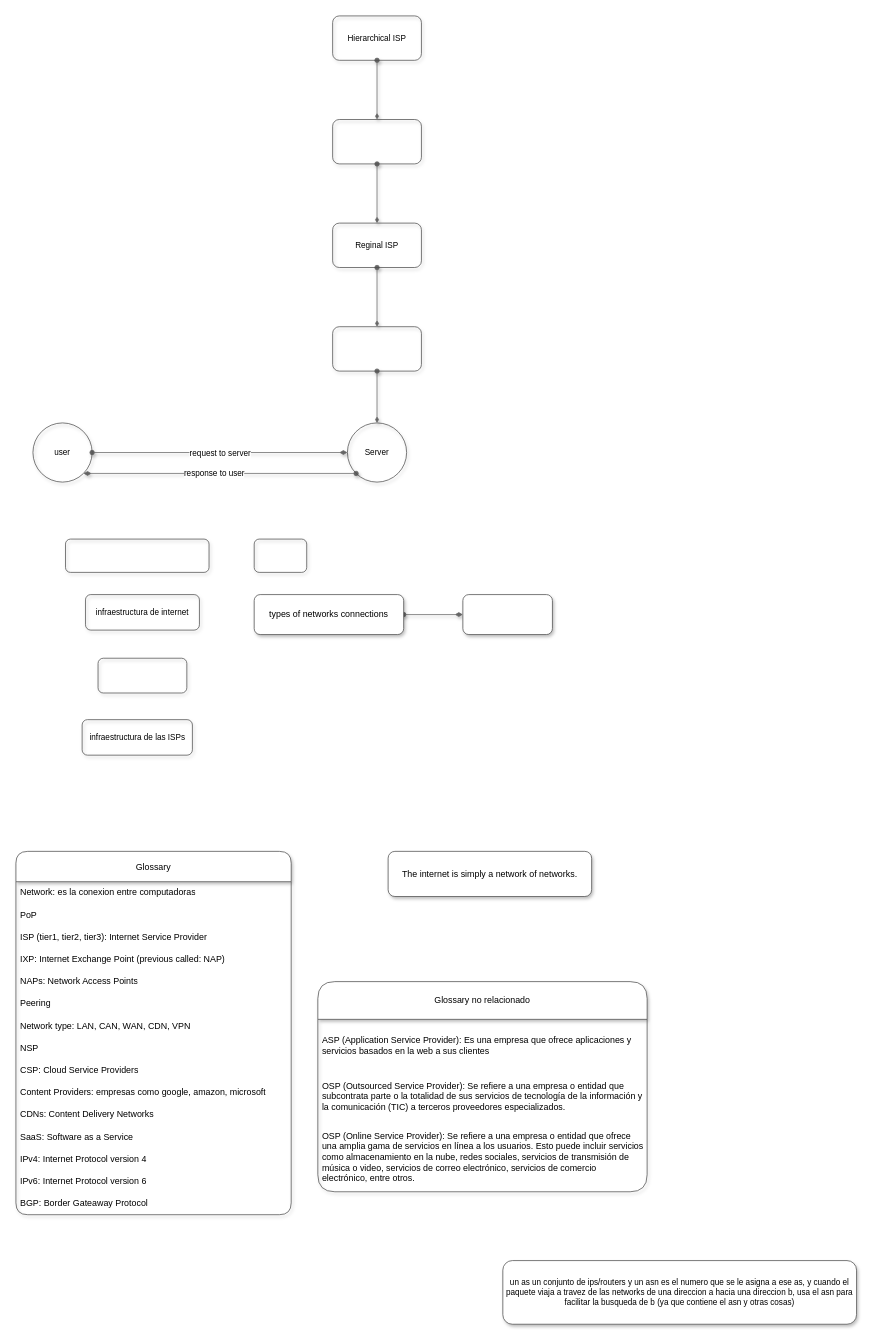
The diagram is 874 pixels wide and 1342 high, and some of its shapes have lost their labels. Each missing label, with the centre of its shape:
"Global ISP" goes at [377,142].
"herarqui de las ISPs" goes at [142,676].
"Local ISP" goes at [377,349].
"protocolos" goes at [280,556].
"transferencias de paquetes/frames" goes at [137,556].
"wireless, wifi, etc" goes at [508,615].
